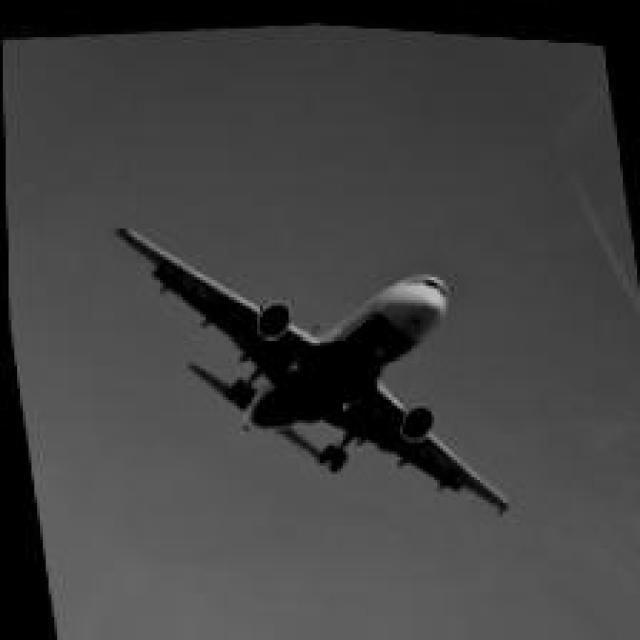aeroplane: (106, 177, 511, 552)
